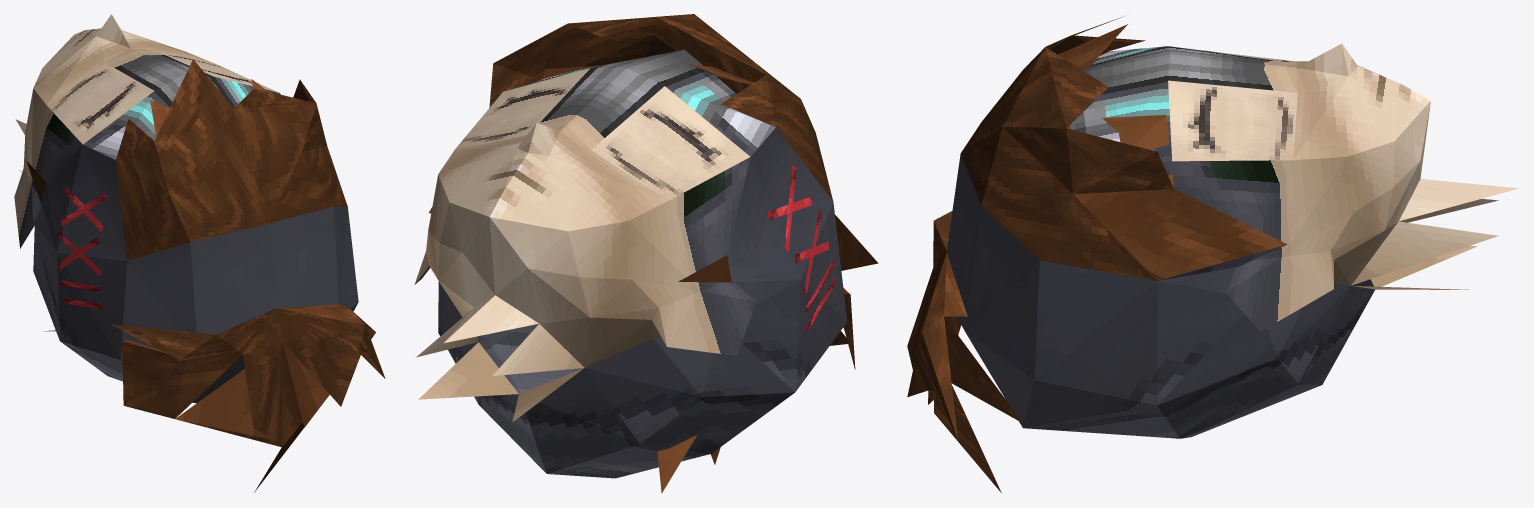
The model's file is character_n11.obj.
The picture shows the model from 3 angles, left to right: view 1: azimuth 30°, elevation 25°; view 2: azimuth 150°, elevation 25°; view 3: azimuth 270°, elevation 25°; orthographic projection. The views are drawn at different scales.
Size of the model in its own units: 22.44 by 31.76 by 37.03.
4 materials, 4 textured.
